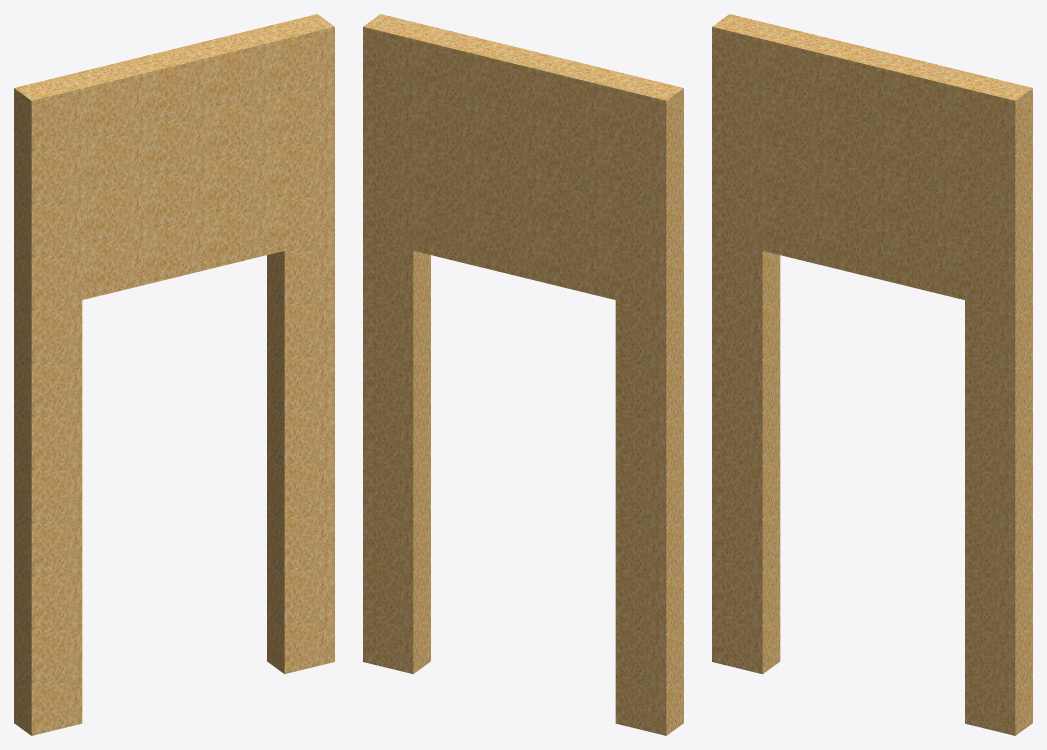
The model's file is murv5.gltf.
3 views of the same model, side by side, from view 1: azimuth 30°, elevation 25°; view 2: azimuth 150°, elevation 25°; view 3: azimuth 330°, elevation 25° (orthographic).
Parts seen in each view (by area): view 1: root; view 2: root; view 3: root.
Part boxes in pixels (x1,y1,x2,y2): root: [14, 14, 334, 735]; root: [363, 14, 683, 735]; root: [712, 14, 1032, 735].
Size of the model in its own units: 1.5 by 3 by 0.15.
Materials: 1 (1 with a texture image).
